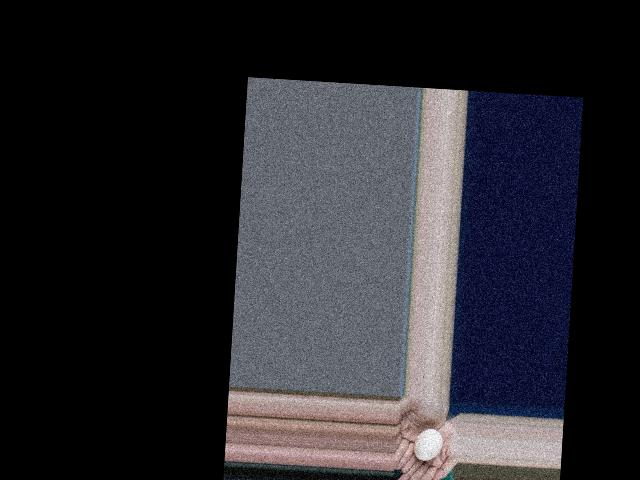egg: (413, 428, 442, 462)
